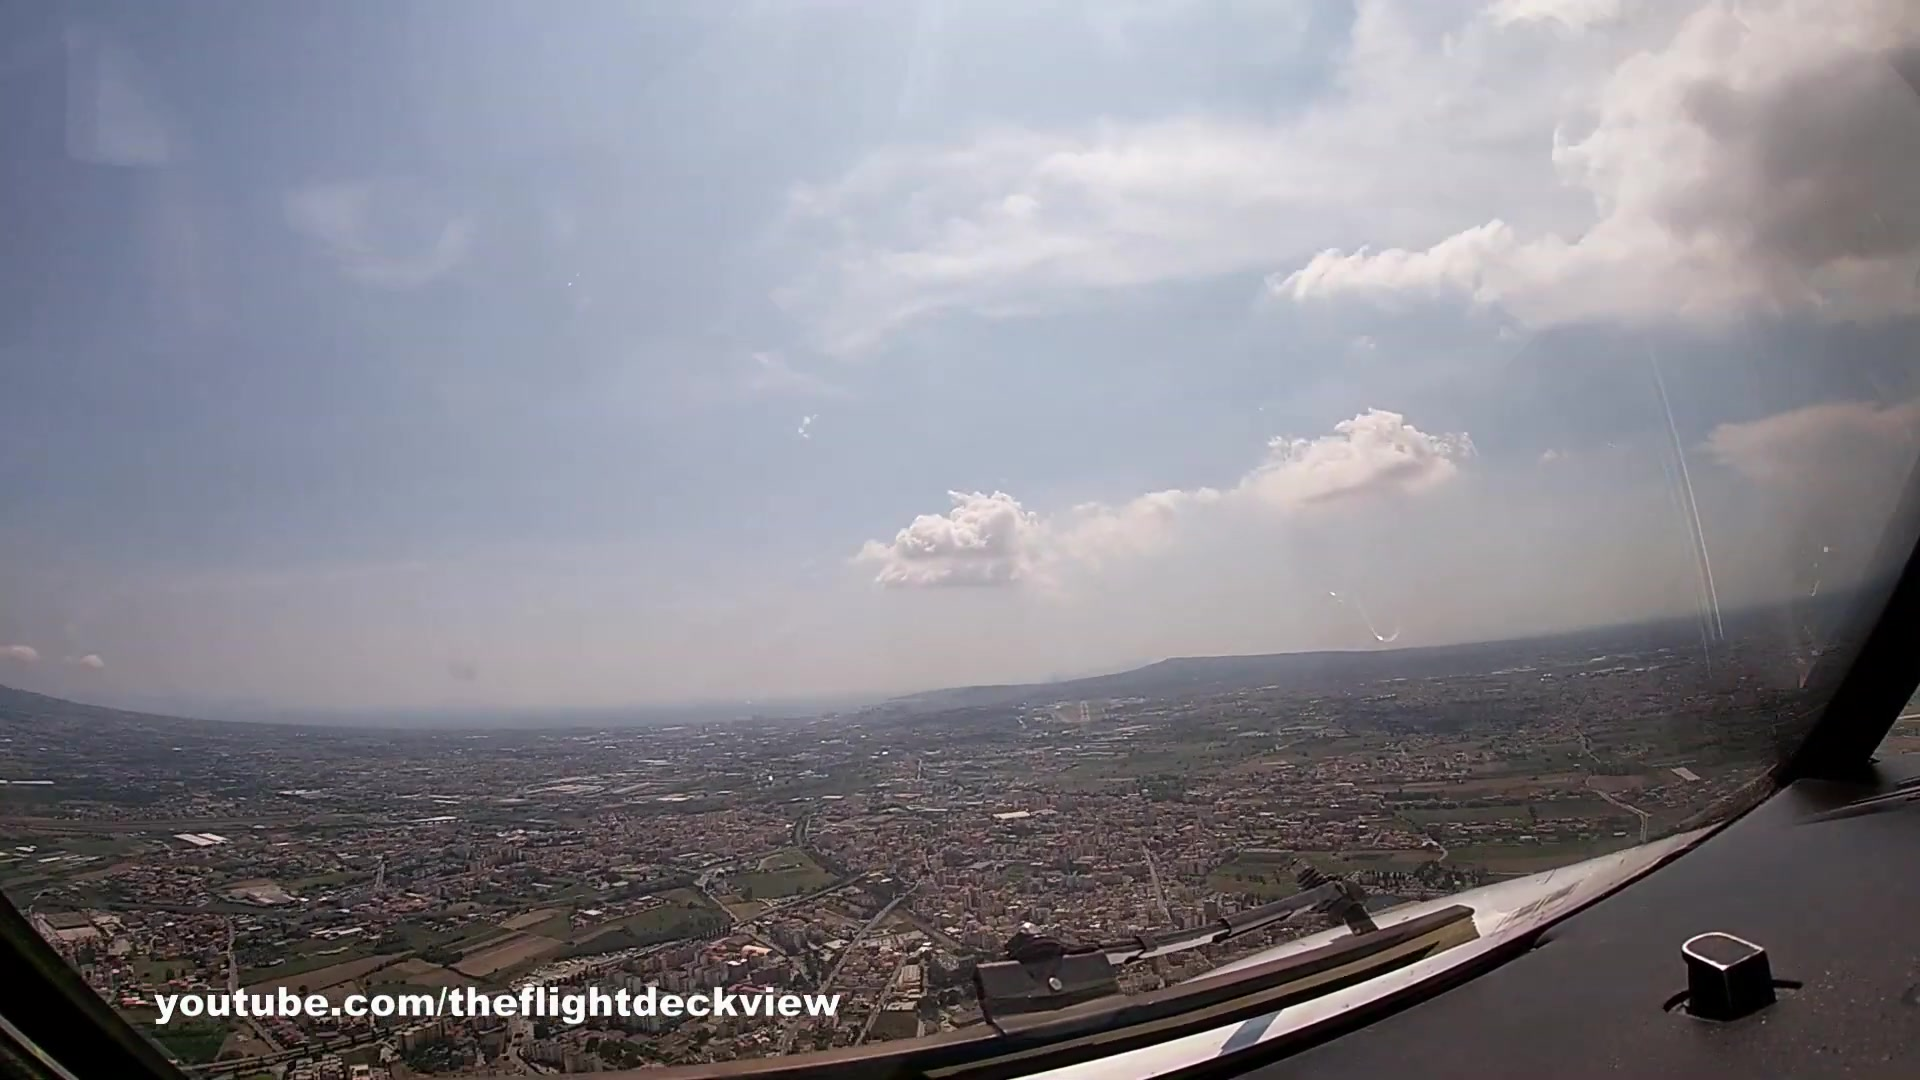runway: (1077, 698, 1091, 724)
